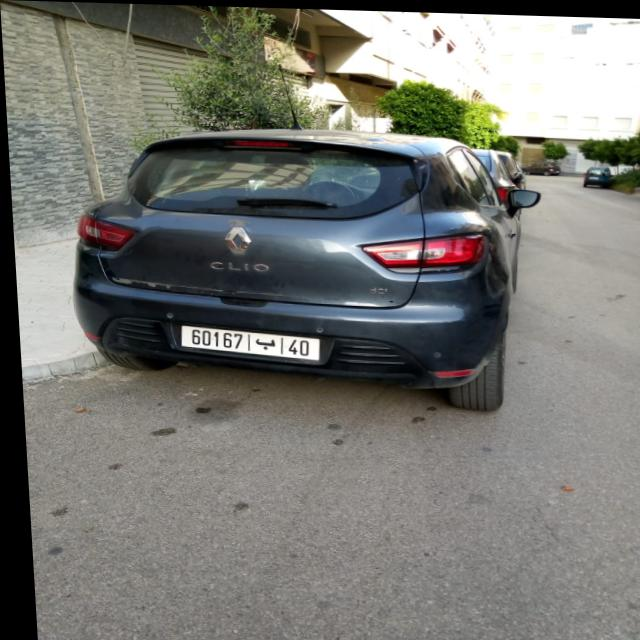License-Plate: (177, 325, 315, 359)
